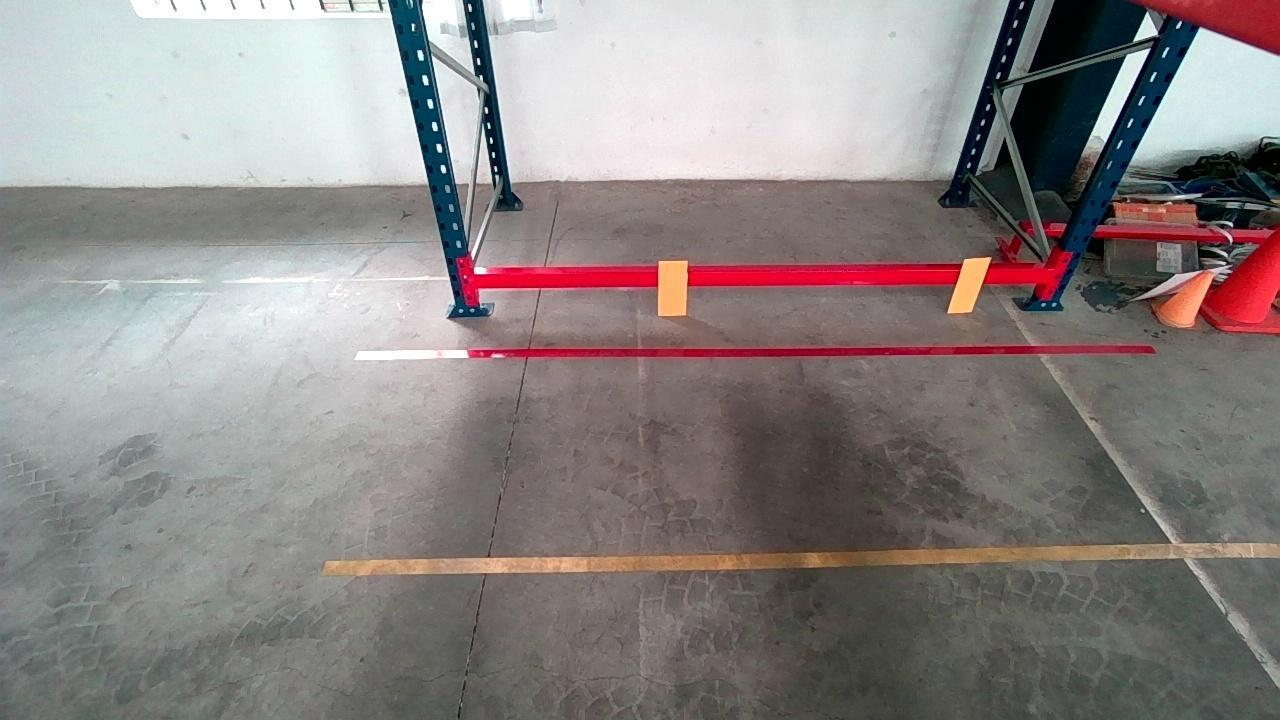h_rack: (475, 268, 1048, 285)
orange_strip: (948, 256, 993, 313), (658, 258, 688, 315)
red_line: (349, 344, 1157, 361)
yellow_line: (318, 539, 1280, 581)
